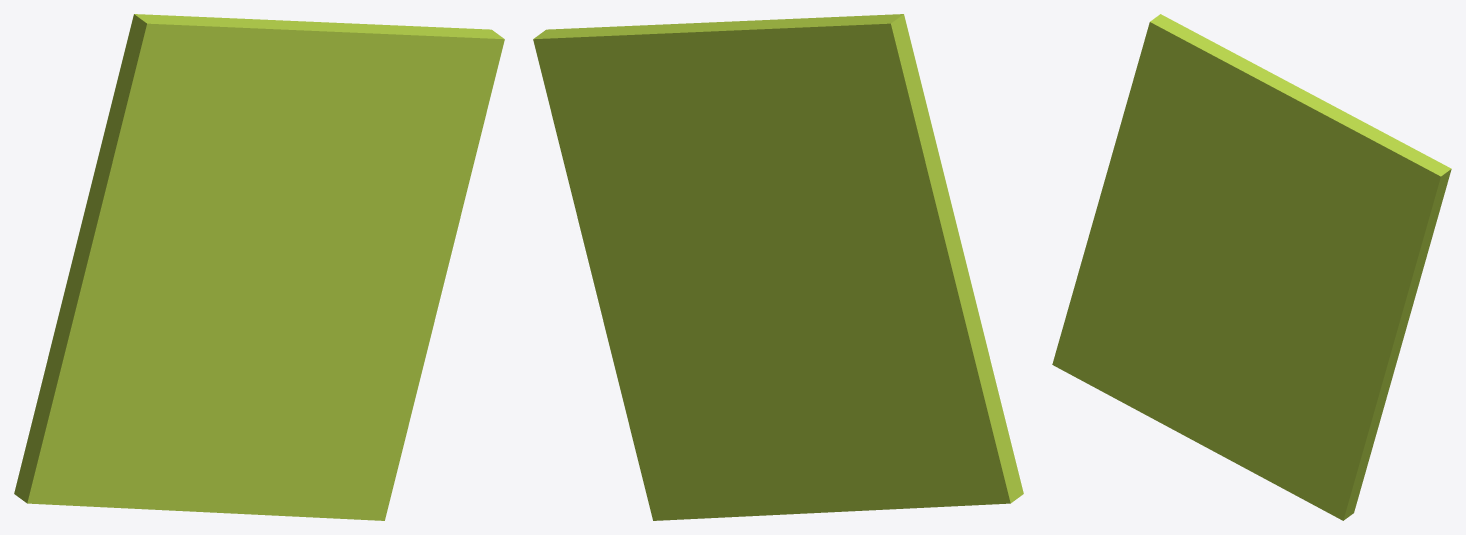
The picture shows the model from 3 angles, left to right: view 1: azimuth 30°, elevation 25°; view 2: azimuth 150°, elevation 25°; view 3: azimuth 330°, elevation 25°; orthographic projection. The views are drawn at different scales.
Parts seen in each view (by area): view 1: osm-way27917482-F1; view 2: osm-way27917482-F1; view 3: osm-way27917482-F1.
Part boxes in pixels (bbox=[...]): osm-way27917482-F1: bbox=[14, 14, 504, 520]; osm-way27917482-F1: bbox=[533, 14, 1023, 520]; osm-way27917482-F1: bbox=[1052, 14, 1451, 520].
Size of the model in its own units: 3.13 by 3.48 by 0.15.
